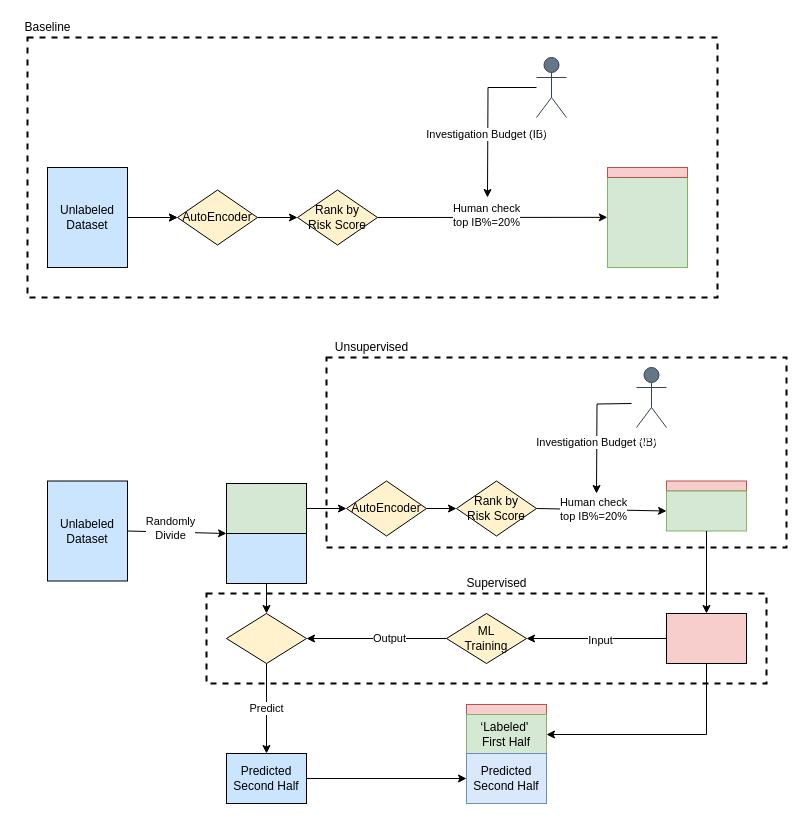
Image size: 804x821. Some labels were removed from this diagram. Each missing label, with the centre of its shape:
'Labeled' Training Set: pixel 706 638
First Half: pixel 266 508
Second Half: pixel 266 558
Trained Models: pixel 266 638
